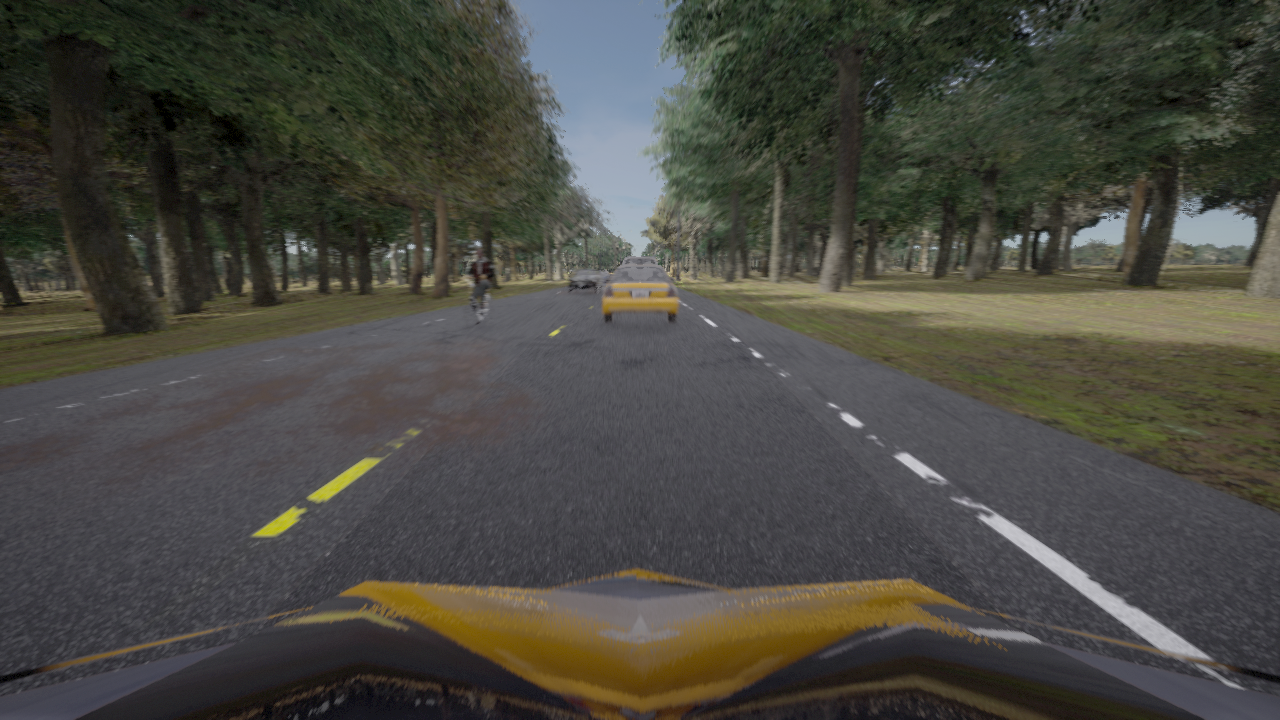cyclist: (0, 569, 1279, 719), (603, 259, 676, 322), (465, 277, 492, 331), (568, 269, 602, 292), (622, 257, 657, 265), (598, 271, 610, 284)
